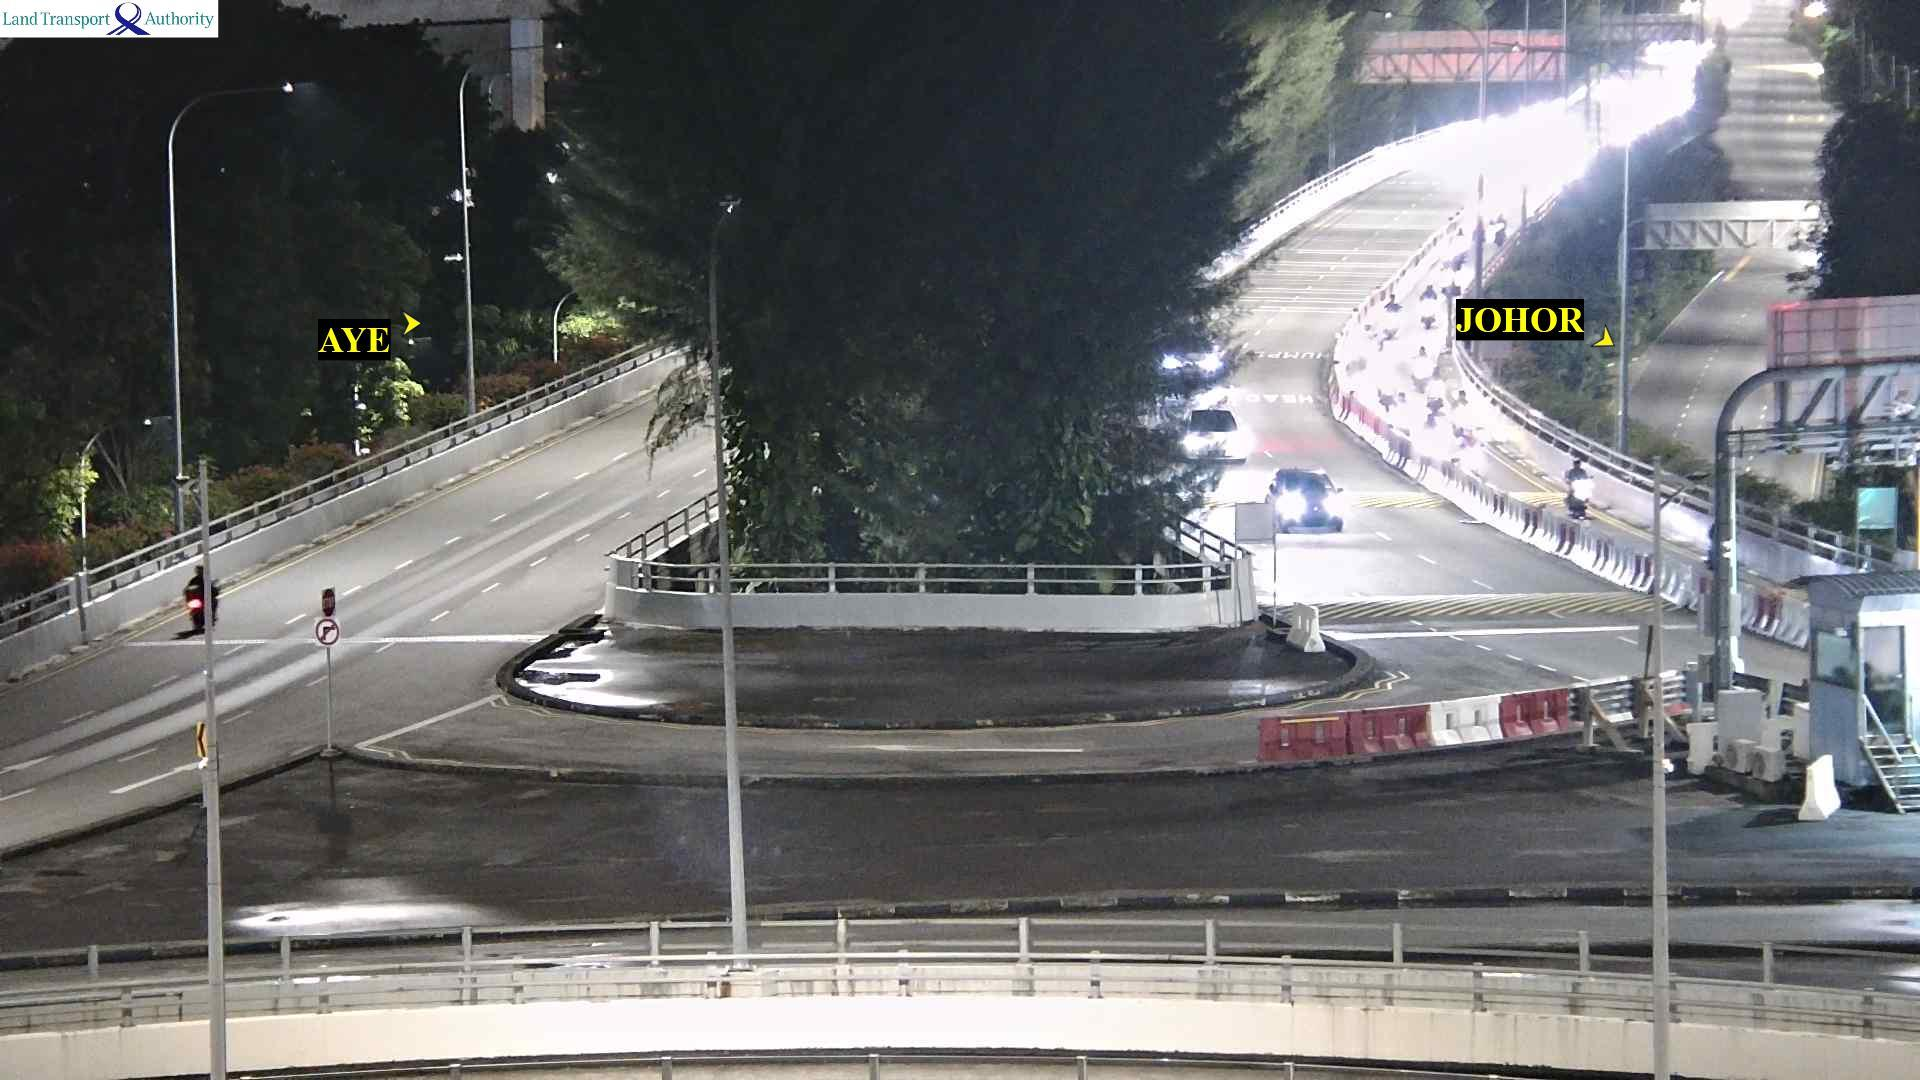vehicle-secondlink-johor: (1267, 467, 1341, 520), (1176, 406, 1240, 460), (1407, 276, 1441, 327), (1560, 458, 1588, 516), (1374, 363, 1403, 414), (1429, 369, 1455, 427), (1406, 344, 1428, 388), (1448, 224, 1466, 276), (1455, 425, 1485, 452), (1381, 298, 1398, 332)
vehicle-secondlink-singapore: (185, 568, 227, 633)
